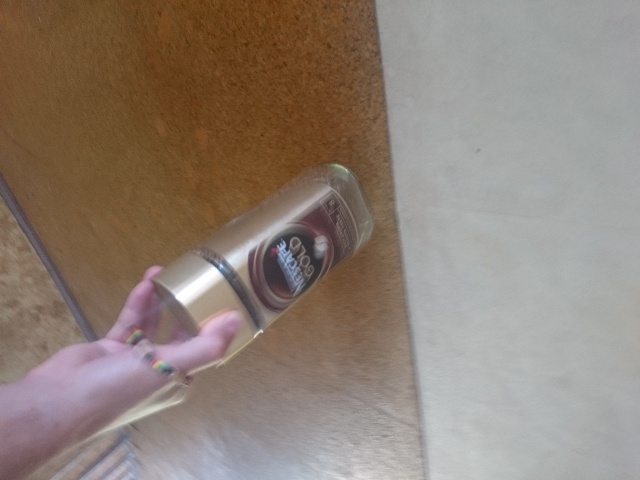Nescafe Gold 225g: (145, 158, 379, 373)
